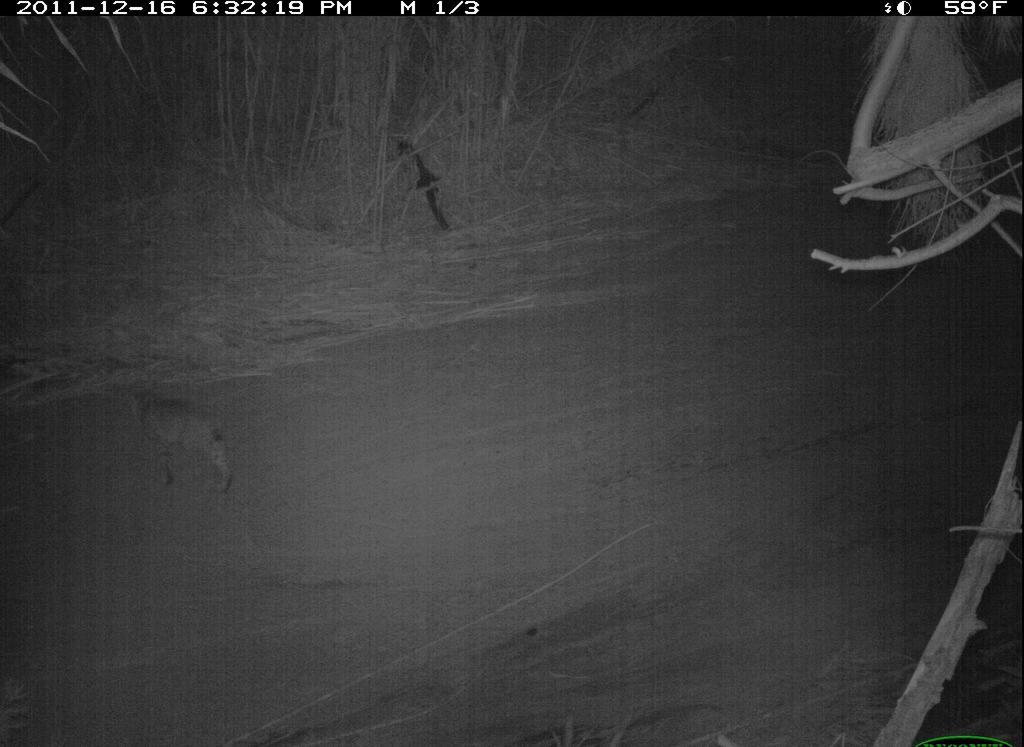bobcat: (118, 379, 245, 505)
